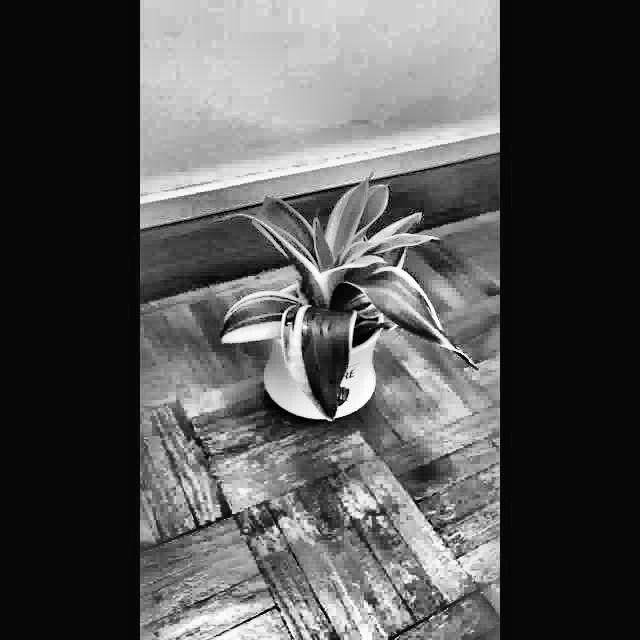plants: (208, 164, 486, 440)
